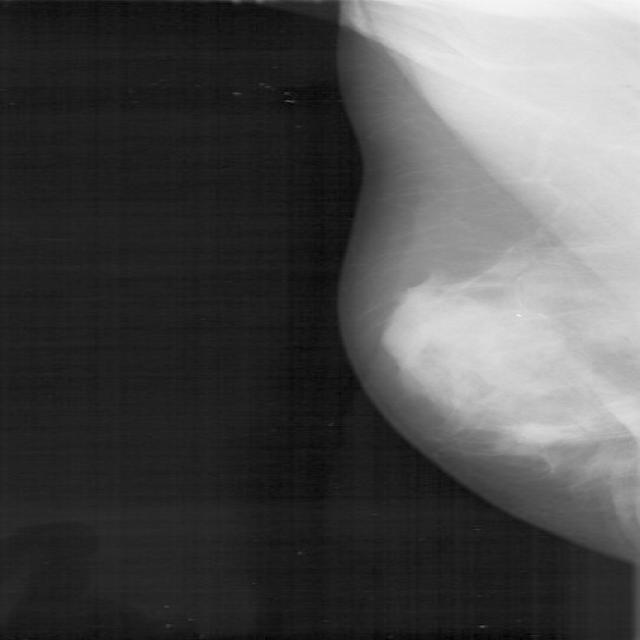tumour: (506, 421, 560, 444)
